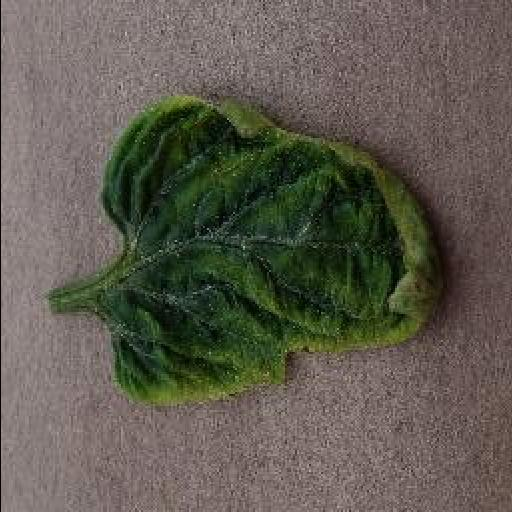disease_tomato: (100, 94, 440, 407)
